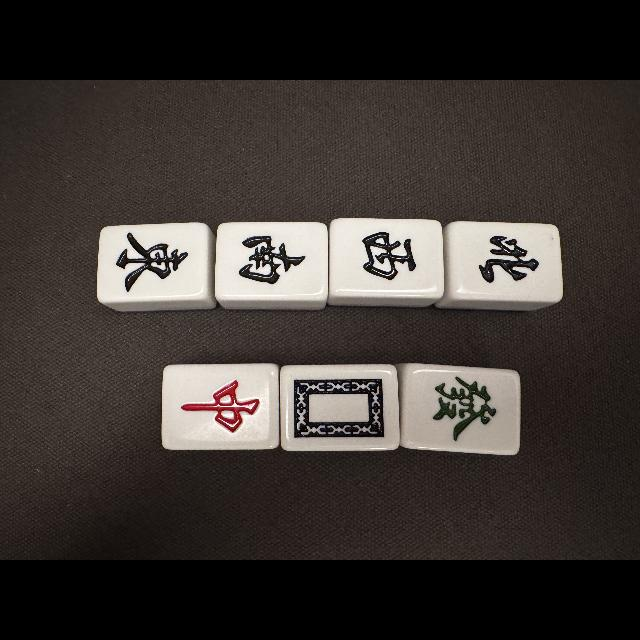dg: (407, 369, 518, 451)
dr: (164, 367, 274, 448)
dw: (284, 368, 396, 448)
we: (100, 226, 204, 298)
wn: (454, 225, 558, 299)
ws: (220, 224, 324, 296)
ww: (335, 220, 441, 294)
